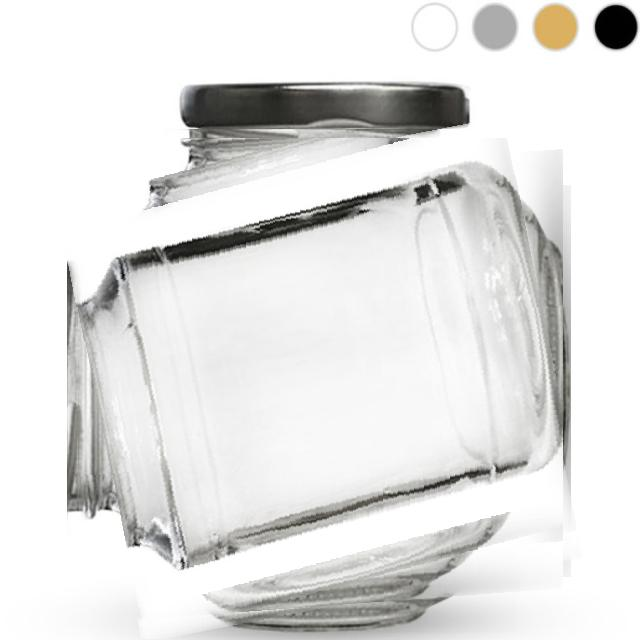recyclable: (76, 138, 563, 624)
